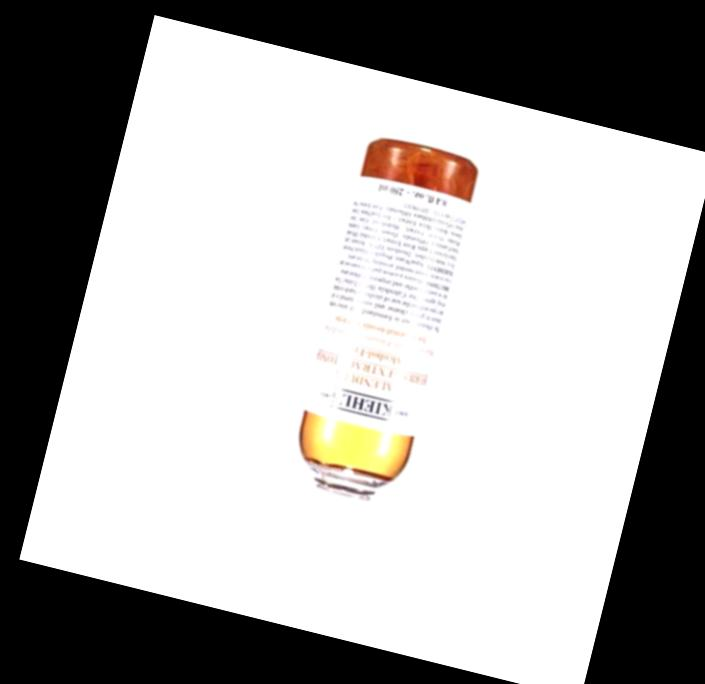cosmetic: (267, 130, 481, 579)
